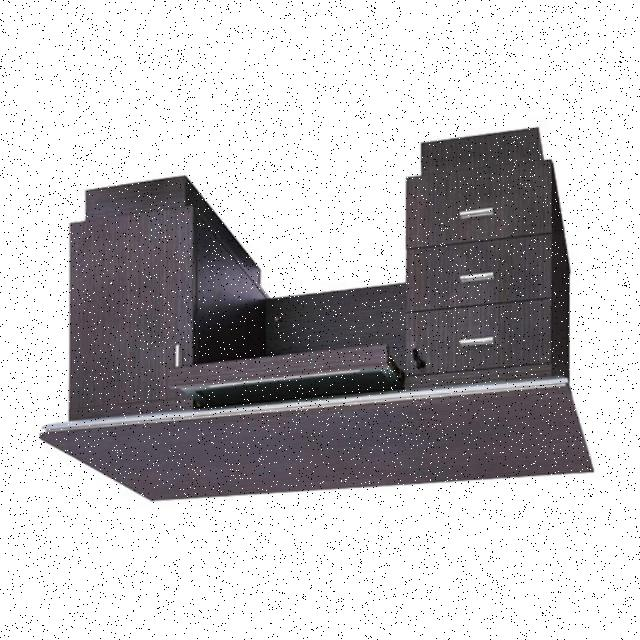mobile-phone: (38, 123, 590, 504)
